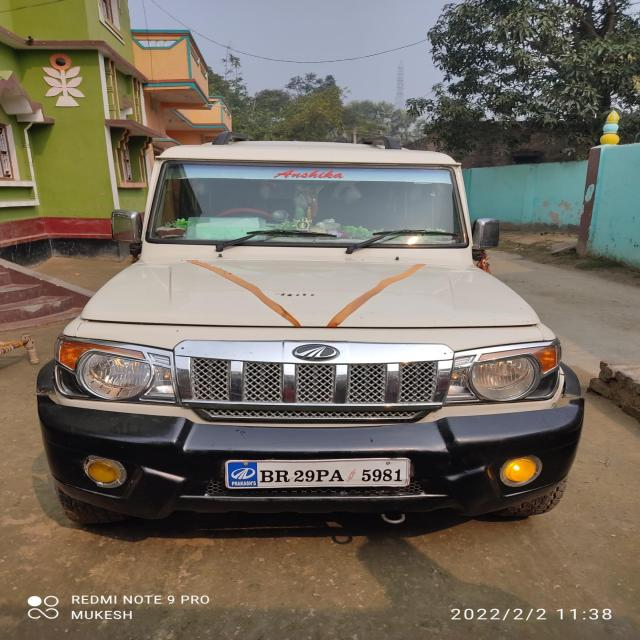light_vehicle: (46, 152, 573, 522)
